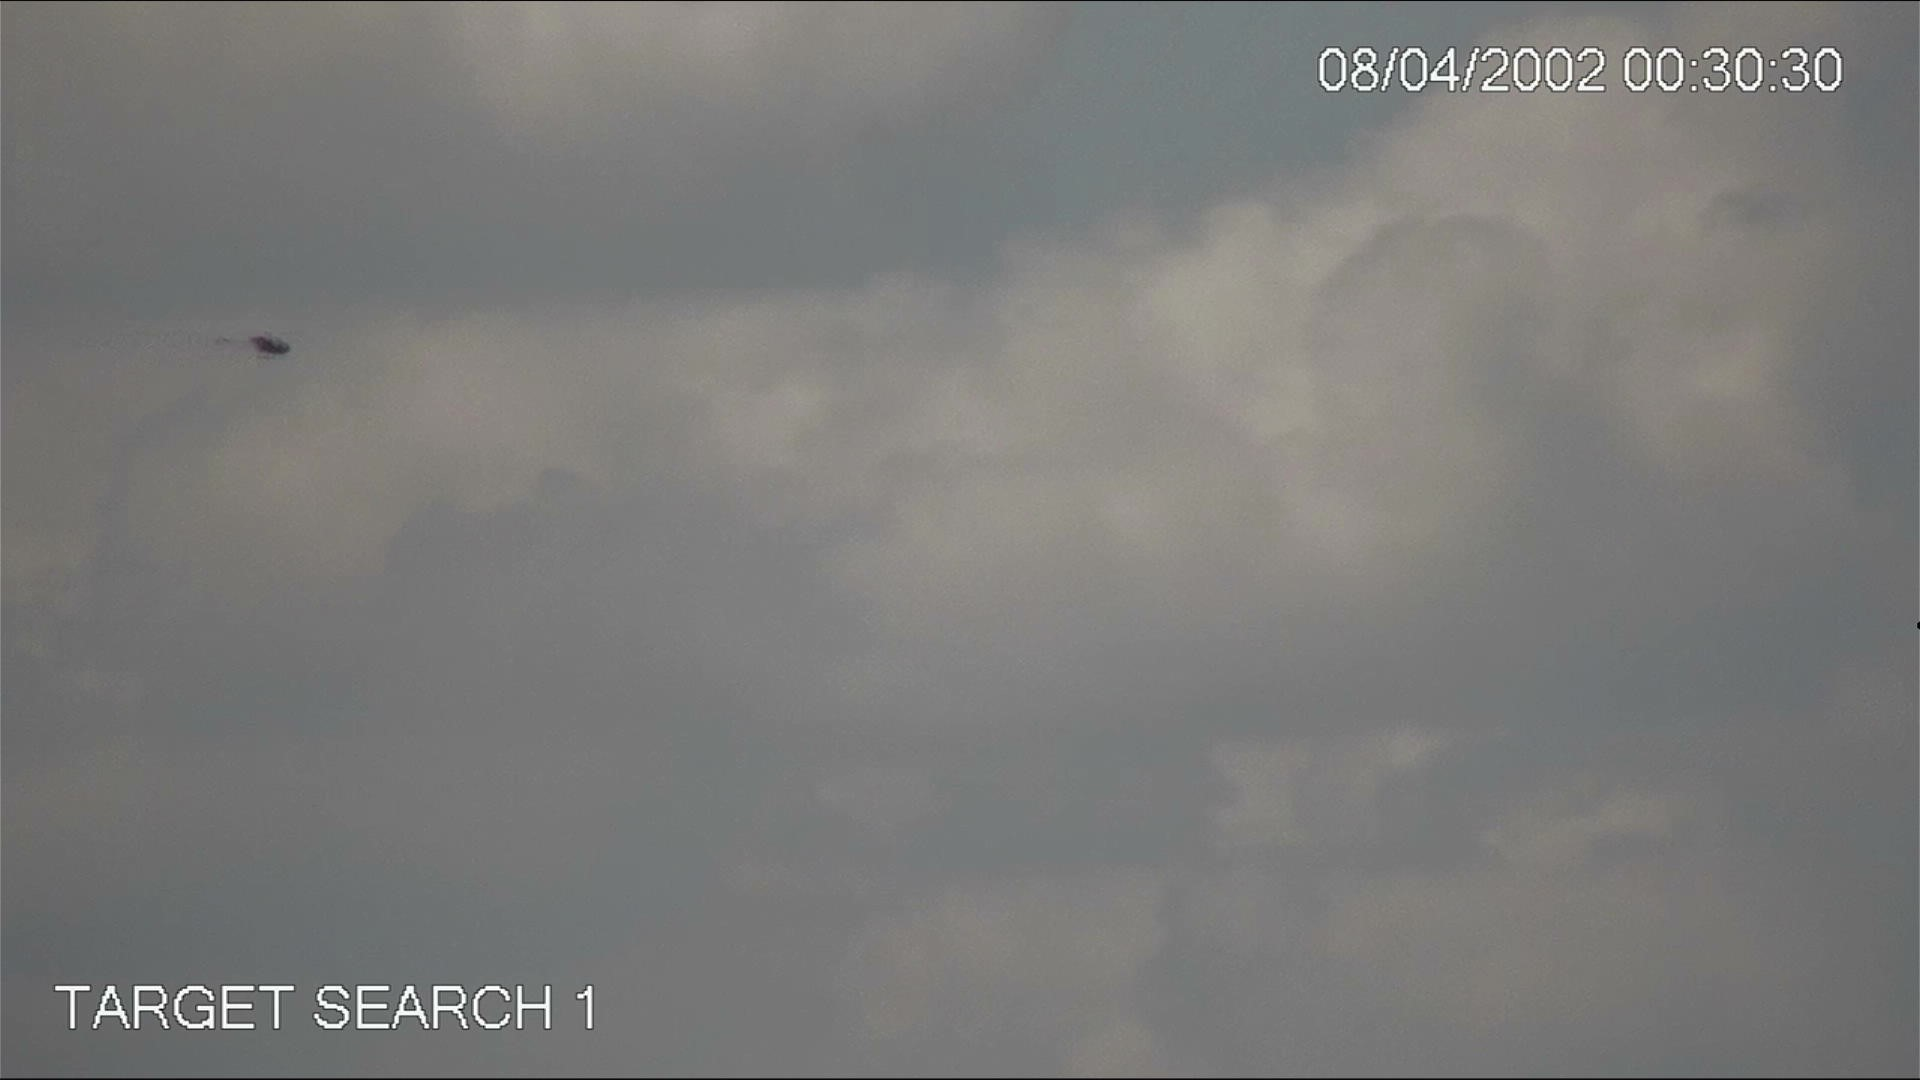SU_30: (214, 331, 298, 364)
